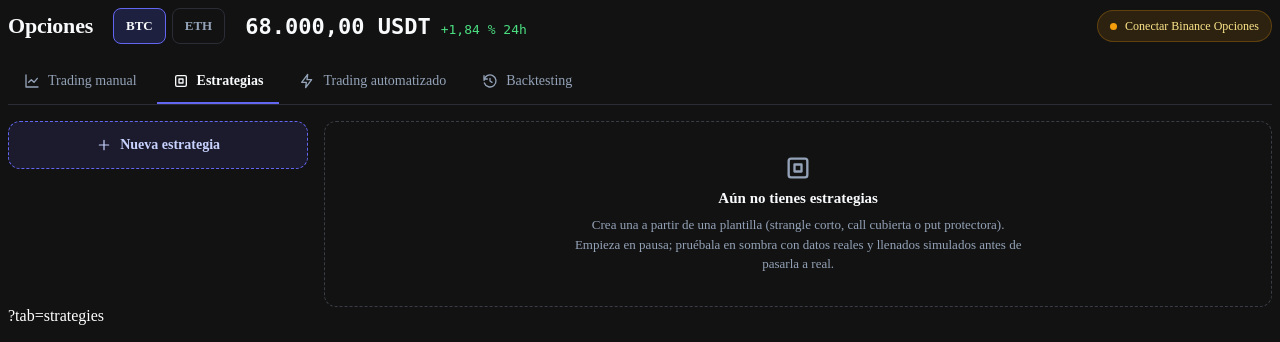
OptionsPage › la pestaña Trading automatizado va entre Estrategias y Backtesting y sincroniza ?tab=auto
Click the link "Trading automatizado" at (373, 81), box [299,73,446,89]
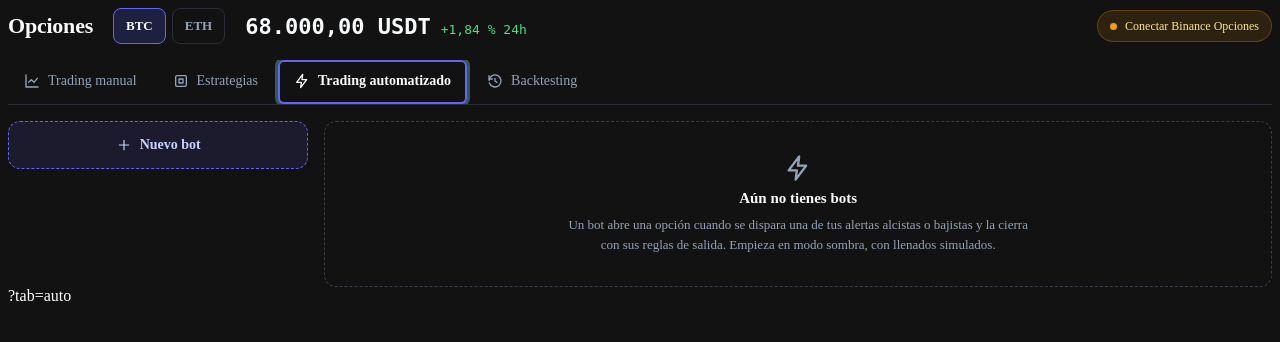
Expected: the text with test id "search" reads "?tab=auto", [8,287,71,304]
Expected: the button "Nuevo bot" is shown, [8,121,308,169]
Expected: the text "Aún no tienes bots" is shown, [739,190,857,207]
